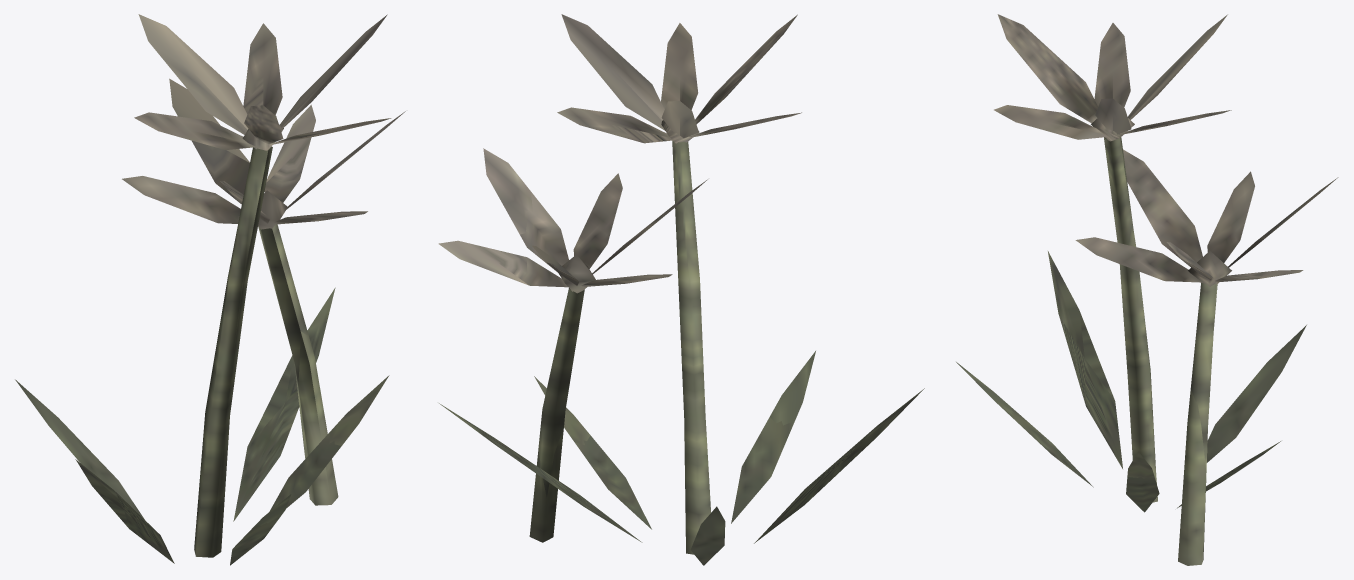
The model's file is flower_ash_lily.glb.
The picture shows the model from 3 angles, left to right: view 1: azimuth 30°, elevation 25°; view 2: azimuth 150°, elevation 25°; view 3: azimuth 270°, elevation 25°; orthographic projection. The views are drawn at different scales.
Parts seen in each view (by area): view 1: flower_ash_lily; view 2: flower_ash_lily; view 3: flower_ash_lily.
Part boxes in pixels (box(x1,y1,x2,y2)): flower_ash_lily: box(15, 14, 405, 565); flower_ash_lily: box(438, 14, 924, 565); flower_ash_lily: box(956, 14, 1338, 565).
Size of the model in its own units: 0.3139 by 0.3861 by 0.2844.
Materials: 1 (1 with a texture image).
